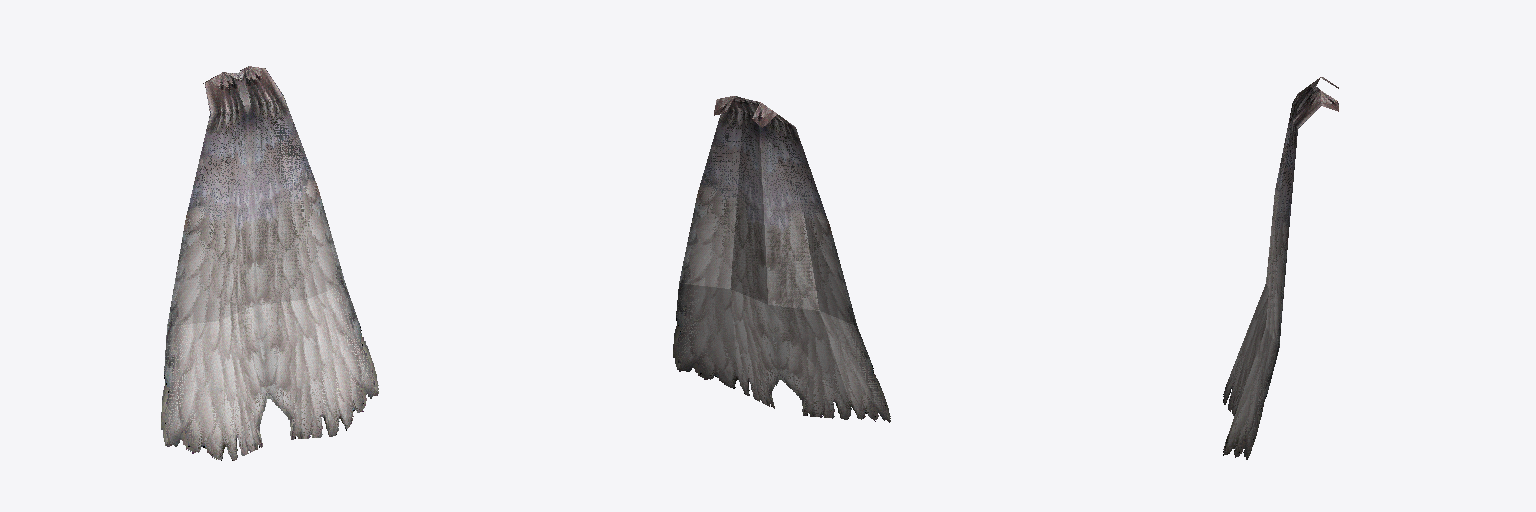
The picture shows the model from 3 angles: view 1: azimuth 30°, elevation 25°; view 2: azimuth 150°, elevation 25°; view 3: azimuth 270°, elevation 25°; orthographic projection.
Parts seen in each view (by area): view 1: defaultobject; view 2: defaultobject; view 3: defaultobject.
Part boxes in pixels (bbox=[...]): defaultobject: bbox=[161, 66, 378, 460]; defaultobject: bbox=[673, 96, 890, 422]; defaultobject: bbox=[1223, 77, 1338, 459].
Bounding box in the file's own units: 35.21 × 49.66 × 15.58.
Materials: 1 (1 with a texture image).